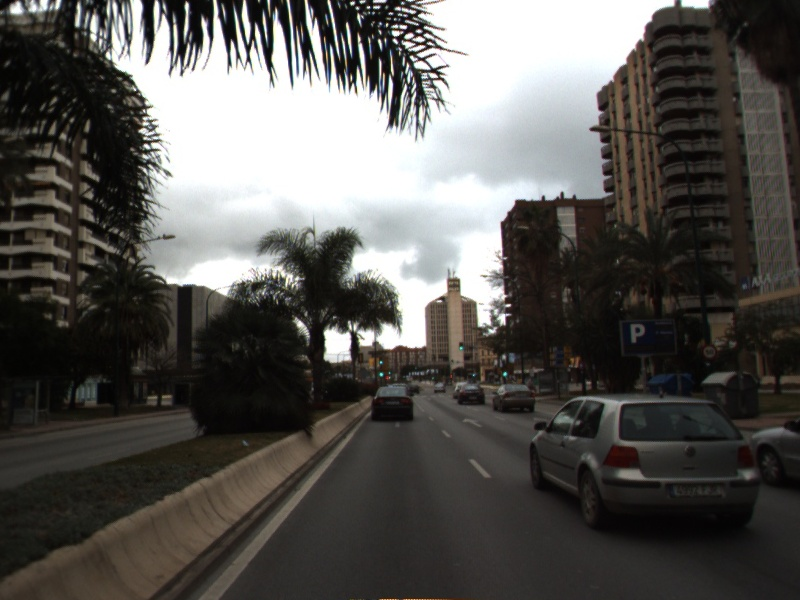STRAIGHT: (460, 416, 485, 429)
